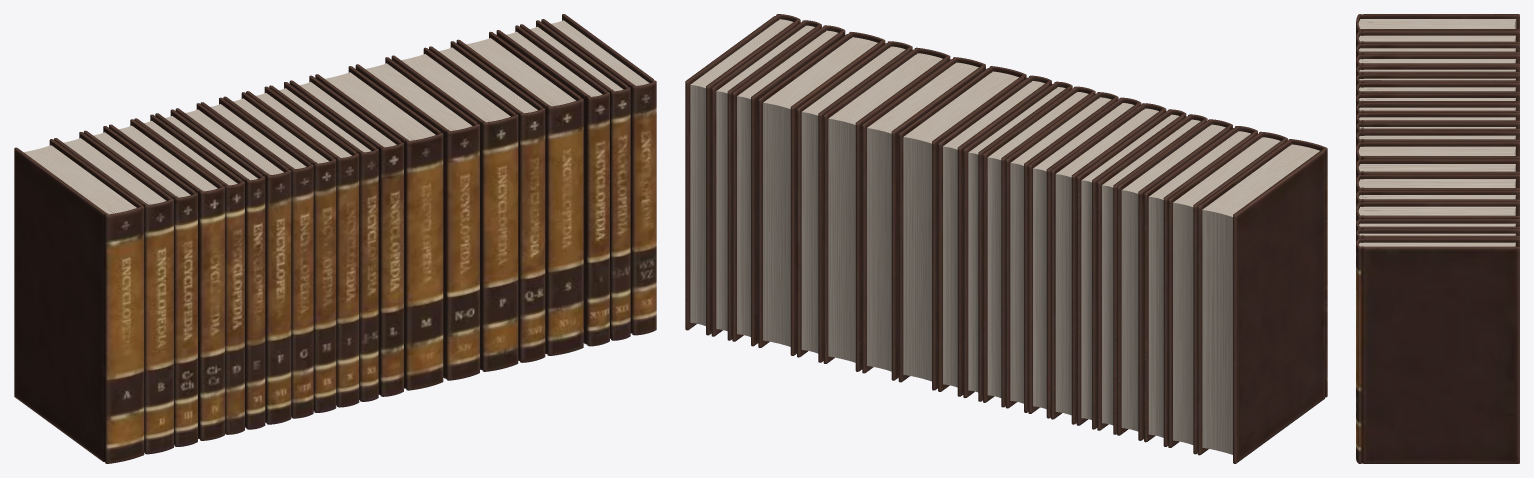
File: book_encyclopedia_set_01_1k.gltf
3 views of the same model, side by side, from view 1: azimuth 30°, elevation 25°; view 2: azimuth 150°, elevation 25°; view 3: azimuth 270°, elevation 25° (orthographic). The views are drawn at different scales.
Visible parts, largest first — view 1: book_encyclopedia_set_01_book01, book_encyclopedia_set_01_book13, book_encyclopedia_set_01_book15, book_encyclopedia_set_01_book17, book_encyclopedia_set_01_book14, book_encyclopedia_set_01_book02, book_encyclopedia_set_01_book16, book_encyclopedia_set_01_book04, book_encyclopedia_set_01_book18, book_encyclopedia_set_01_book20, book_encyclopedia_set_01_book07, book_encyclopedia_set_01_book12 (+8 smaller); view 2: book_encyclopedia_set_01_book01, book_encyclopedia_set_01_book13, book_encyclopedia_set_01_book15, book_encyclopedia_set_01_book17, book_encyclopedia_set_01_book14, book_encyclopedia_set_01_book02, book_encyclopedia_set_01_book04, book_encyclopedia_set_01_book16, book_encyclopedia_set_01_book18, book_encyclopedia_set_01_book20, book_encyclopedia_set_01_book07, book_encyclopedia_set_01_book12 (+8 smaller); view 3: book_encyclopedia_set_01_book20, book_encyclopedia_set_01_book13, book_encyclopedia_set_01_book01, book_encyclopedia_set_01_book17, book_encyclopedia_set_01_book15, book_encyclopedia_set_01_book14, book_encyclopedia_set_01_book02, book_encyclopedia_set_01_book16, book_encyclopedia_set_01_book03, book_encyclopedia_set_01_book12, book_encyclopedia_set_01_book07, book_encyclopedia_set_01_book04 (+8 smaller).
Boxes of the visible parts, x1,y1,x2,y2 form: book_encyclopedia_set_01_book01: (14,139,144,463); book_encyclopedia_set_01_book13: (315,66,443,390); book_encyclopedia_set_01_book15: (391,47,518,371); book_encyclopedia_set_01_book17: (456,31,583,355); book_encyclopedia_set_01_book14: (355,57,479,380); book_encyclopedia_set_01_book02: (54,132,173,454); book_encyclopedia_set_01_book16: (429,41,545,362); book_encyclopedia_set_01_book04: (109,119,224,440); book_encyclopedia_set_01_book18: (496,25,609,346); book_encyclopedia_set_01_book20: (541,14,656,335); book_encyclopedia_set_01_book07: (175,103,291,424); book_encyclopedia_set_01_book12: (289,75,403,396); book_encyclopedia_set_01_book01: (1197,139,1327,463); book_encyclopedia_set_01_book13: (898,66,1026,390); book_encyclopedia_set_01_book15: (823,47,950,371); book_encyclopedia_set_01_book17: (758,32,885,355); book_encyclopedia_set_01_book14: (862,57,985,380); book_encyclopedia_set_01_book02: (1168,131,1287,454); book_encyclopedia_set_01_book04: (1117,119,1232,440); book_encyclopedia_set_01_book16: (797,41,912,362); book_encyclopedia_set_01_book18: (732,25,845,346); book_encyclopedia_set_01_book20: (685,14,800,335); book_encyclopedia_set_01_book07: (1051,103,1166,424); book_encyclopedia_set_01_book12: (938,75,1051,396); book_encyclopedia_set_01_book20: (1356,238,1519,463); book_encyclopedia_set_01_book13: (1356,142,1519,164); book_encyclopedia_set_01_book01: (1356,14,1519,35); book_encyclopedia_set_01_book17: (1356,202,1519,222); book_encyclopedia_set_01_book15: (1356,174,1519,194); book_encyclopedia_set_01_book14: (1356,159,1519,180); book_encyclopedia_set_01_book02: (1356,30,1519,47); book_encyclopedia_set_01_book16: (1356,190,1519,208); book_encyclopedia_set_01_book03: (1356,43,1519,58); book_encyclopedia_set_01_book12: (1356,131,1519,148); book_encyclopedia_set_01_book07: (1356,82,1519,96); book_encyclopedia_set_01_book04: (1356,54,1519,68).
Bounding box in the file's own units: 0.5513 × 0.2374 × 0.1631.
Materials: 2 (2 with a texture image).
